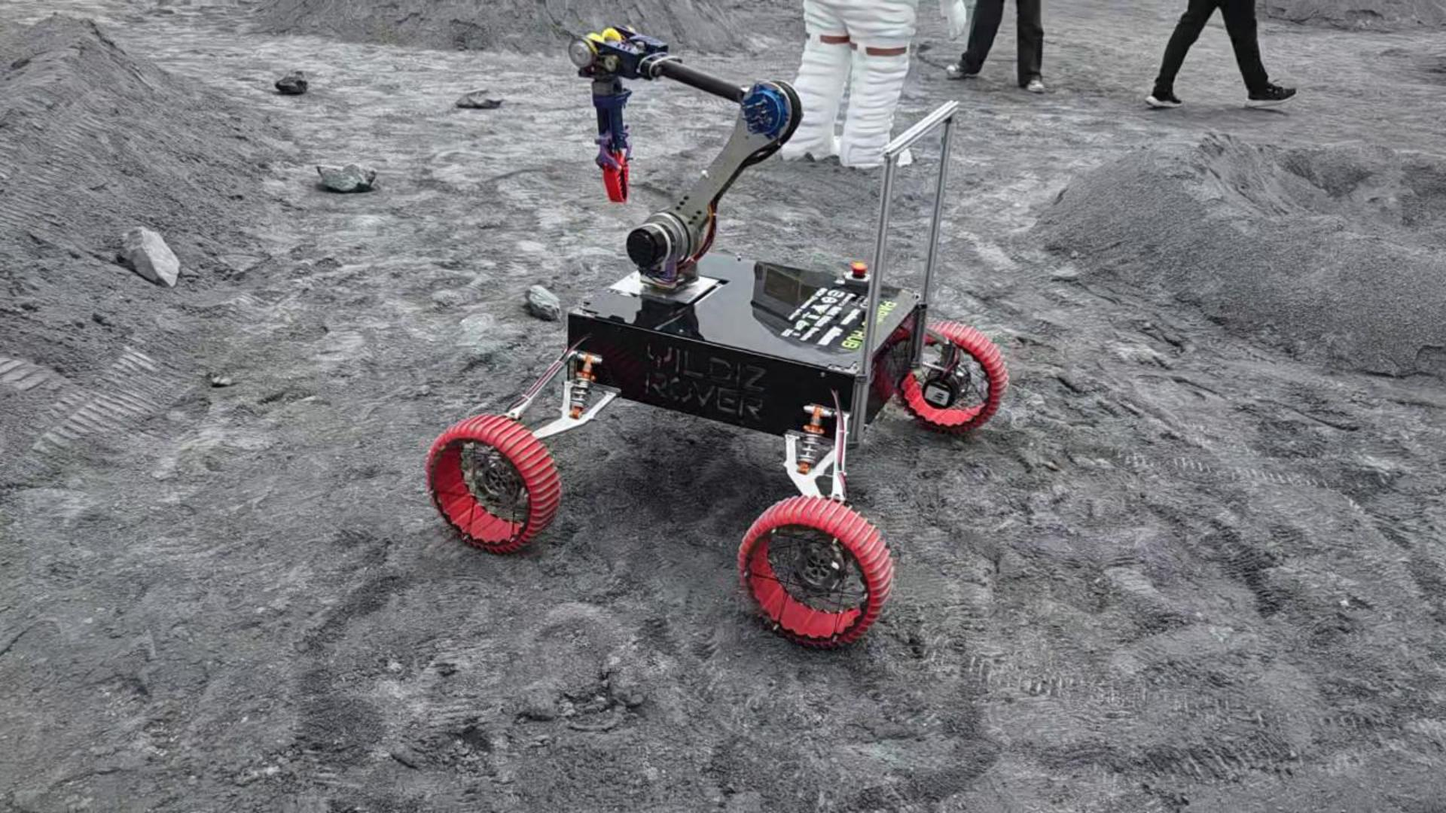rock: (117, 227, 178, 286), (316, 164, 376, 192), (525, 285, 560, 320), (455, 90, 503, 108), (275, 71, 307, 94)
